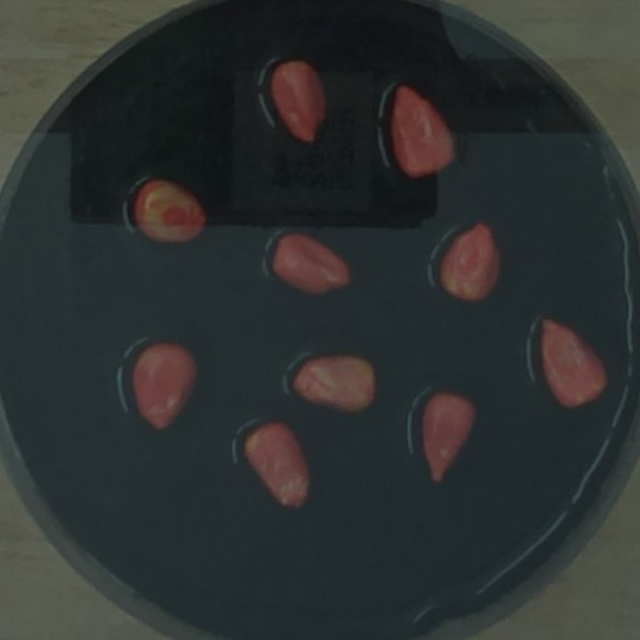Zea mays: (123, 334, 206, 438), (382, 77, 461, 185), (532, 309, 613, 414), (238, 412, 317, 516), (413, 384, 485, 489), (263, 51, 335, 152), (266, 226, 359, 304), (432, 216, 508, 311), (284, 349, 383, 419), (126, 174, 213, 250)
